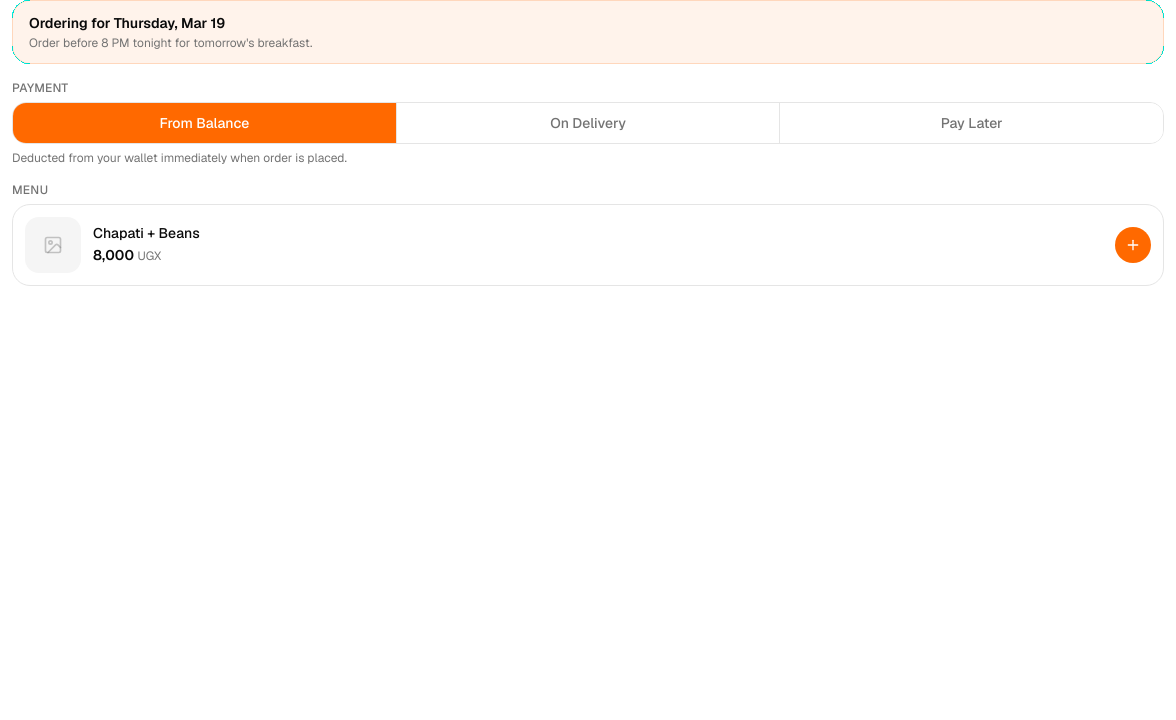
Test: OrderForm › does not show insufficient balance when pay later is selected
Click the button named "add-Chapati + Beans".
click(1133, 245)  # box [1115,227,1151,263]
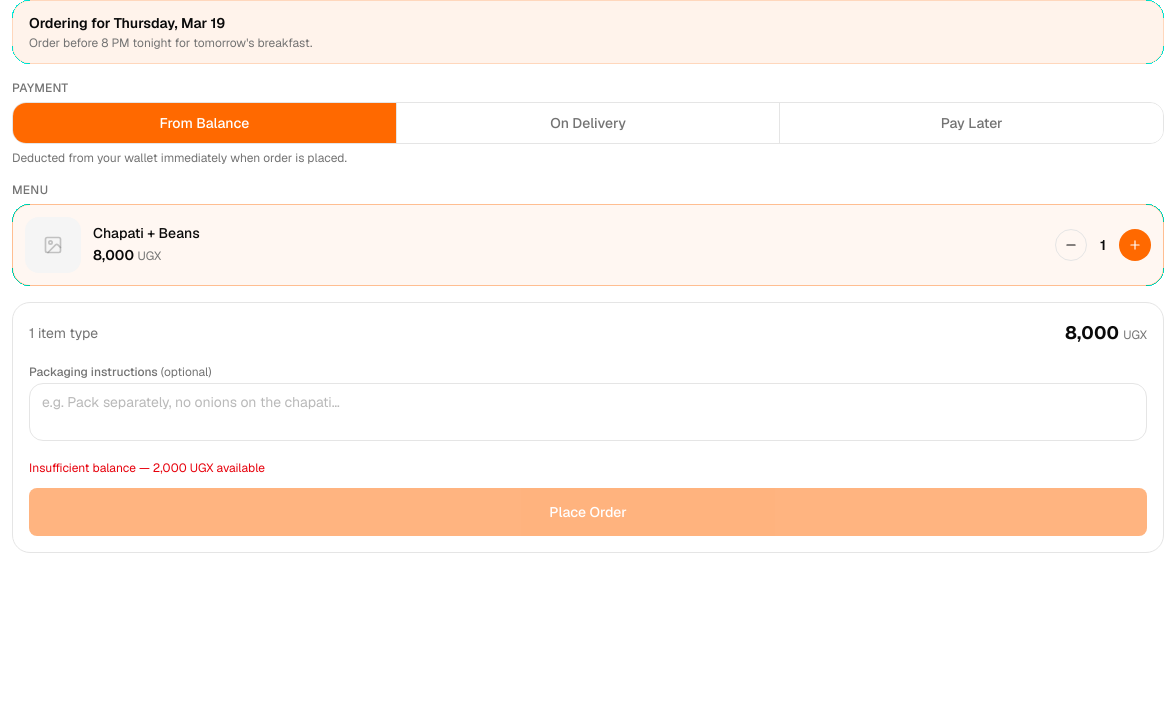
Expected: the text "Insufficient balance — 2,000 UGX available" is shown, [29,460,265,476]
Click the button with aria-label "payment-method-pay_later".
click(971, 123)  # box [779,103,1163,143]
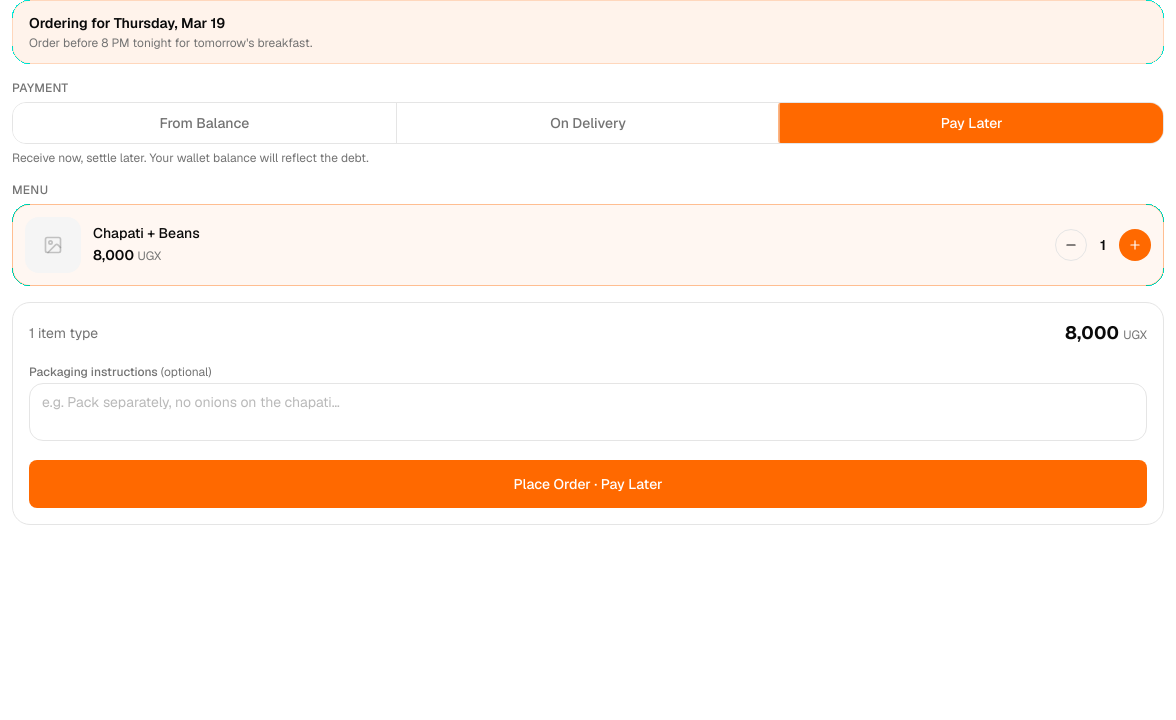
Expected: the text "Insufficient balance" is gone
Expected: the button "Place Order · Pay Later" is enabled, [29,460,1147,508]
